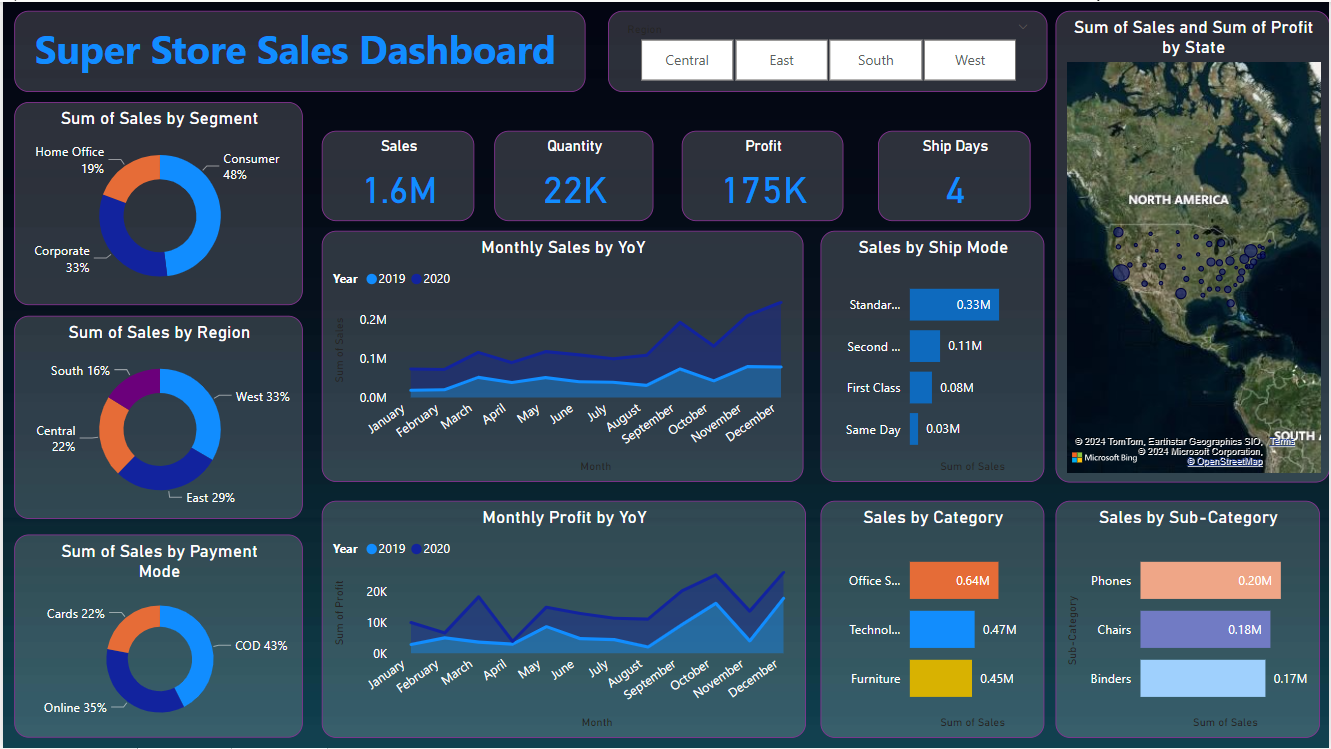

What the dashboard file says about the page in this screenshot:
{"tool":"powerbi","page":{"name":"Page 1","canvas":[1280,720],"ordinal":0},"visuals":[{"type":"clusteredBarChart","title":"Sales by Category","fields":{"Category":["SuperStore_Sales_Dataset.Category"],"Y":["Sum(SuperStore_Sales_Dataset.Sales)"]},"box":[788.8,481.2,216.2,228.8],"z":0},{"type":"clusteredBarChart","title":"Sales by Sub-Category","fields":{"Category":["SuperStore_Sales_Dataset.Sub-Category"],"Y":["Sum(SuperStore_Sales_Dataset.Sales)"]},"box":[1015,481.2,255,228.8],"z":1000},{"type":"clusteredBarChart","title":"Sales by Ship Mode","fields":{"Category":["SuperStore_Sales_Dataset.Ship Mode"],"Y":["Sum(SuperStore_Sales_Dataset.Sales)"]},"box":[788.8,221.2,216.2,242.5],"z":2000},{"type":"stackedAreaChart","title":"Monthly Sales by YoY","fields":{"Y":["Sum(SuperStore_Sales_Dataset.Sales)"],"Category":["SuperStore_Sales_Dataset.Order Date.Variation.Date Hierarchy.Month","SuperStore_Sales_Dataset.Order Date.Variation.Date Hierarchy.Day"],"Series":["SuperStore_Sales_Dataset.Order Date.Variation.Date Hierarchy.Year"]},"box":[307.5,221.2,465,242.5],"z":3000},{"type":"stackedAreaChart","title":"Monthly Profit by YoY","fields":{"Category":["SuperStore_Sales_Dataset.Order Date.Variation.Date Hierarchy.Month","SuperStore_Sales_Dataset.Order Date.Variation.Date Hierarchy.Day"],"Series":["SuperStore_Sales_Dataset.Order Date.Variation.Date Hierarchy.Year"],"Y":["Sum(SuperStore_Sales_Dataset.Profit)"]},"box":[307.5,481.2,467.5,228.8],"z":4000},{"type":"map","fields":{"Category":["SuperStore_Sales_Dataset.State"],"Size":["Sum(SuperStore_Sales_Dataset.Sales)"]},"box":[1015,8.8,265,455],"z":5000},{"type":"donutChart","fields":{"Category":["SuperStore_Sales_Dataset.Segment"],"Y":["Sum(SuperStore_Sales_Dataset.Sales)"]},"box":[11.2,96.2,278.8,196.2],"z":6000},{"type":"donutChart","fields":{"Category":["SuperStore_Sales_Dataset.Payment Mode"],"Y":["Sum(SuperStore_Sales_Dataset.Sales)"]},"box":[11.2,513.8,278.8,196.2],"z":7000},{"type":"slicer","fields":{"Values":["SuperStore_Sales_Dataset.Region"]},"box":[583.8,8.8,423.8,78.8],"z":8000},{"type":"textbox","box":[11.2,8.8,551.2,78.8],"z":9000},{"type":"card","title":"Sales ","fields":{"Values":["Sum(SuperStore_Sales_Dataset.Sales)"]},"box":[307.5,123.8,147.5,87.5],"z":10000},{"type":"card","title":"Quantity","fields":{"Values":["Sum(SuperStore_Sales_Dataset.Quantity)"]},"box":[473.8,123.8,153.8,87.5],"z":11000},{"type":"card","title":"Profit ","fields":{"Values":["Sum(SuperStore_Sales_Dataset.Profit)"]},"box":[655,123.8,156.2,87.5],"z":12000},{"type":"card","title":"Ship Days ","fields":{"Values":["Avg(SuperStore_Sales_Dataset.AvgDelivery)"]},"box":[843.8,123.8,147.5,87.5],"z":13000},{"type":"donutChart","fields":{"Category":["SuperStore_Sales_Dataset.Region"],"Y":["Sum(SuperStore_Sales_Dataset.Sales)"]},"box":[11.2,302.5,278.8,196.2],"z":14000}]}

Visuals, with their boxes in screenshot pixels (x1, y1, x2, y2), scaled from the page's 1280x720 canvas onto the 1331x749 screenshot:
"Sales by Category" clusteredBarChart: region(820, 501, 1045, 739)
"Sales by Sub-Category" clusteredBarChart: region(1055, 501, 1321, 739)
"Sales by Ship Mode" clusteredBarChart: region(820, 230, 1045, 482)
"Monthly Sales by YoY" stackedAreaChart: region(320, 230, 803, 482)
"Monthly Profit by YoY" stackedAreaChart: region(320, 501, 806, 739)
map - SuperStore_Sales_Dataset.State x Sum(SuperStore_Sales_Dataset.Sales): region(1055, 9, 1330, 482)
donutChart - SuperStore_Sales_Dataset.Segment x Sum(SuperStore_Sales_Dataset.Sales): region(12, 100, 302, 304)
donutChart - SuperStore_Sales_Dataset.Payment Mode x Sum(SuperStore_Sales_Dataset.Sales): region(12, 534, 302, 739)
slicer - SuperStore_Sales_Dataset.Region: region(607, 9, 1048, 91)
textbox: region(12, 9, 585, 91)
"Sales " card: region(320, 129, 473, 220)
"Quantity" card: region(493, 129, 653, 220)
"Profit " card: region(681, 129, 844, 220)
"Ship Days " card: region(877, 129, 1031, 220)
donutChart - SuperStore_Sales_Dataset.Region x Sum(SuperStore_Sales_Dataset.Sales): region(12, 315, 302, 519)
